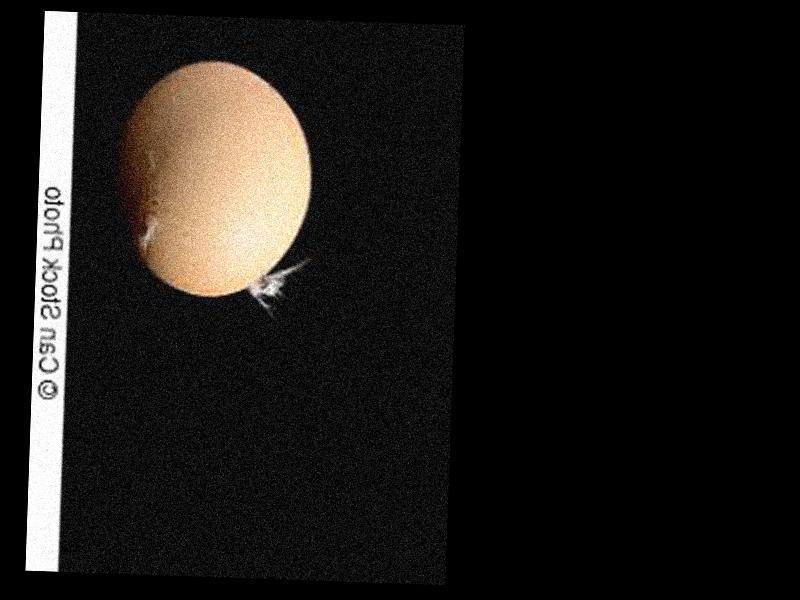Eggs: (111, 57, 313, 299)
